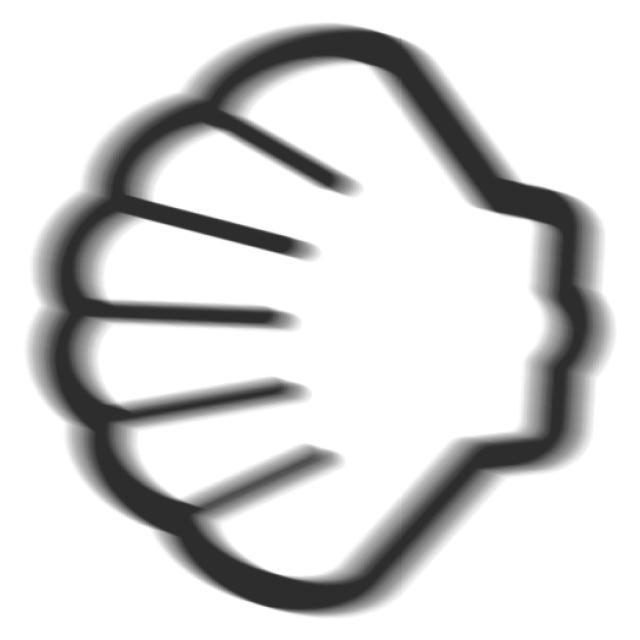shell: (11, 13, 632, 639)
